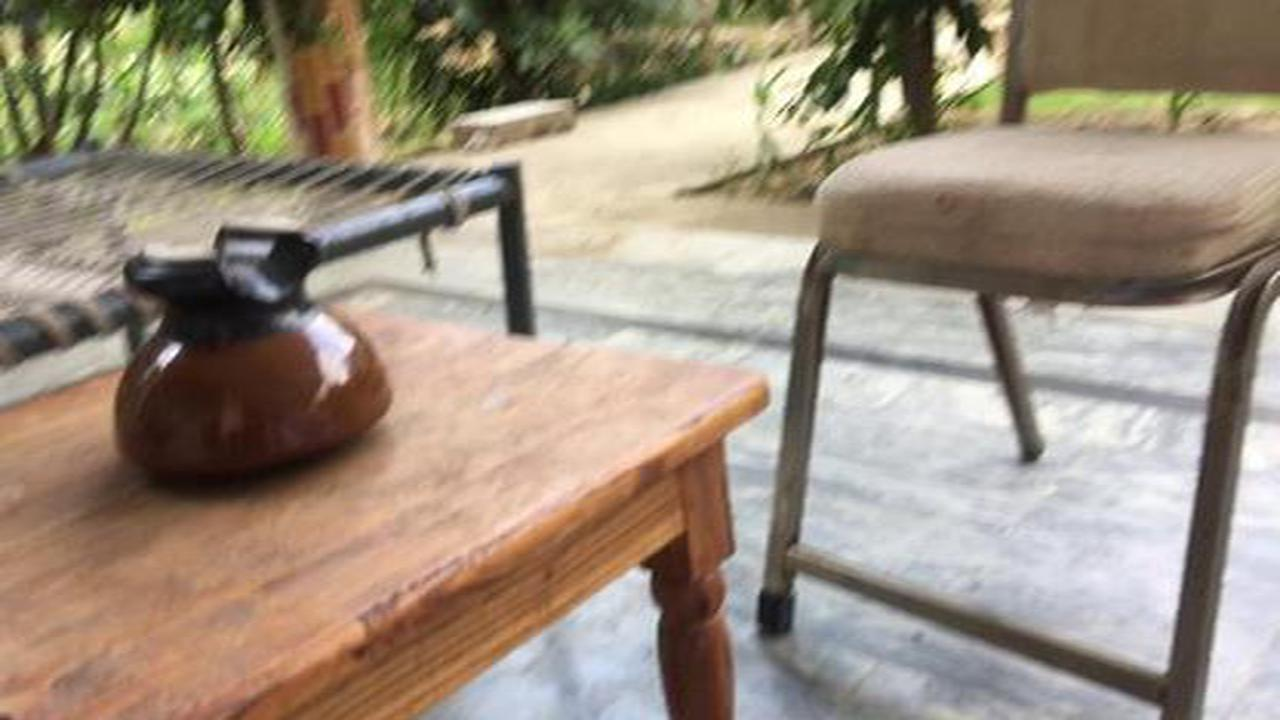insulator_pin: (96, 210, 404, 506)
